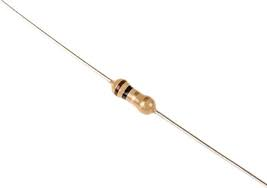resistor: (106, 73, 171, 123)
